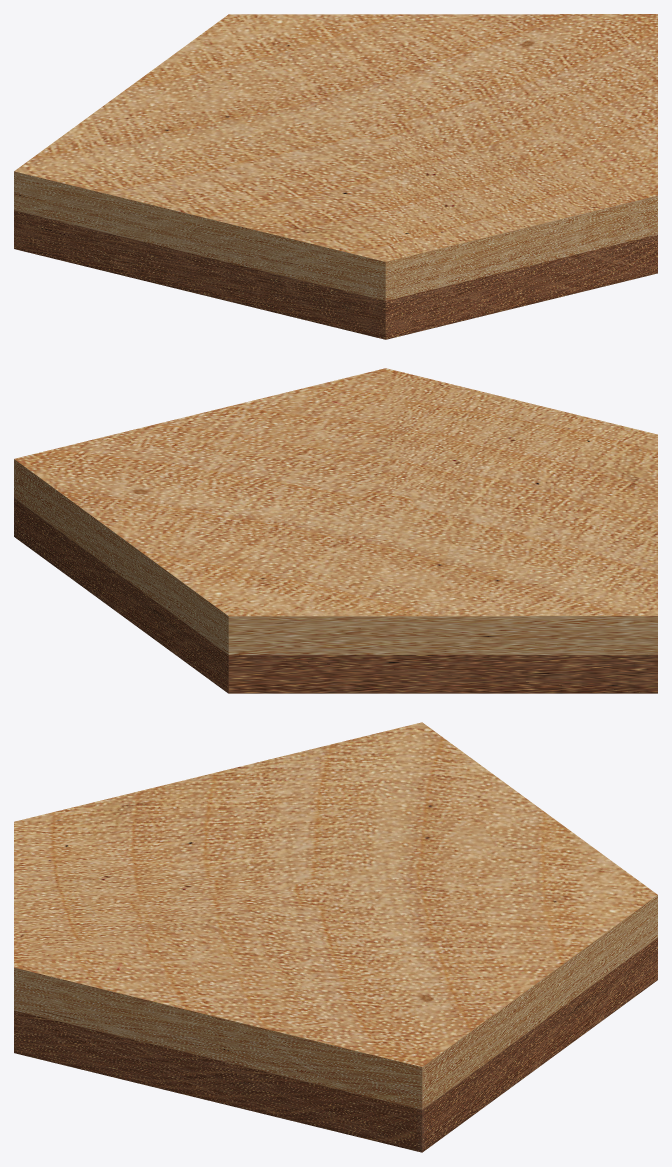
File: PentagonLowPoly.FBX
3 views of the same model, one above another, from view 1: azimuth 30°, elevation 25°; view 2: azimuth 150°, elevation 25°; view 3: azimuth 270°, elevation 25° (orthographic). The views are drawn at different scales.
Parts seen in each view (by area): view 1: PentagonLowPoly; view 2: PentagonLowPoly; view 3: PentagonLowPoly.
Boxes of the visible parts, <box> form: PentagonLowPoly: <box>14,14,657,339</box>; PentagonLowPoly: <box>14,368,657,693</box>; PentagonLowPoly: <box>14,722,657,1152</box>.
Size of the model in its own units: 17.32 by 2 by 13.66.
